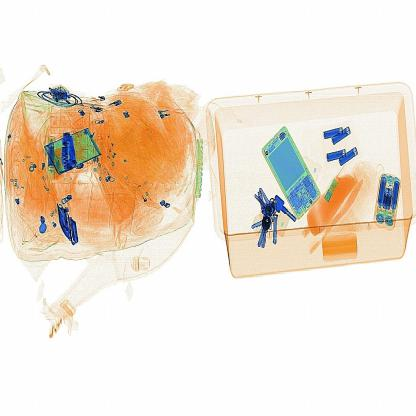scissors: (56, 124, 81, 176)
